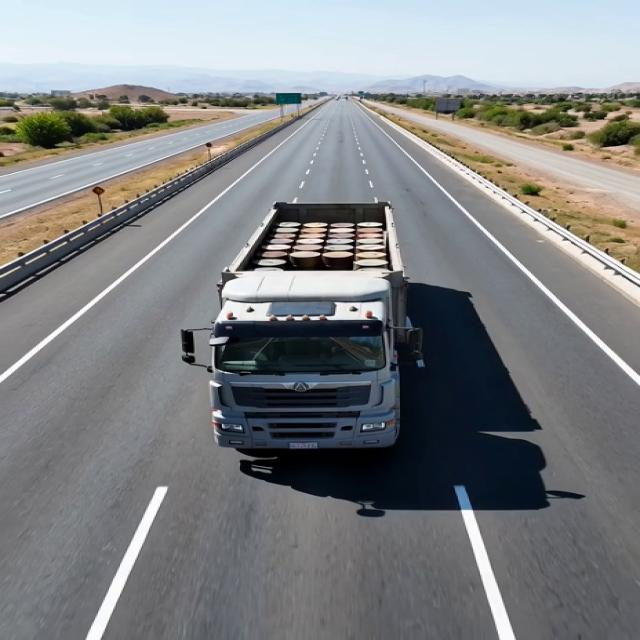Box: (217, 196, 417, 280)
Truck: (181, 173, 442, 468)
